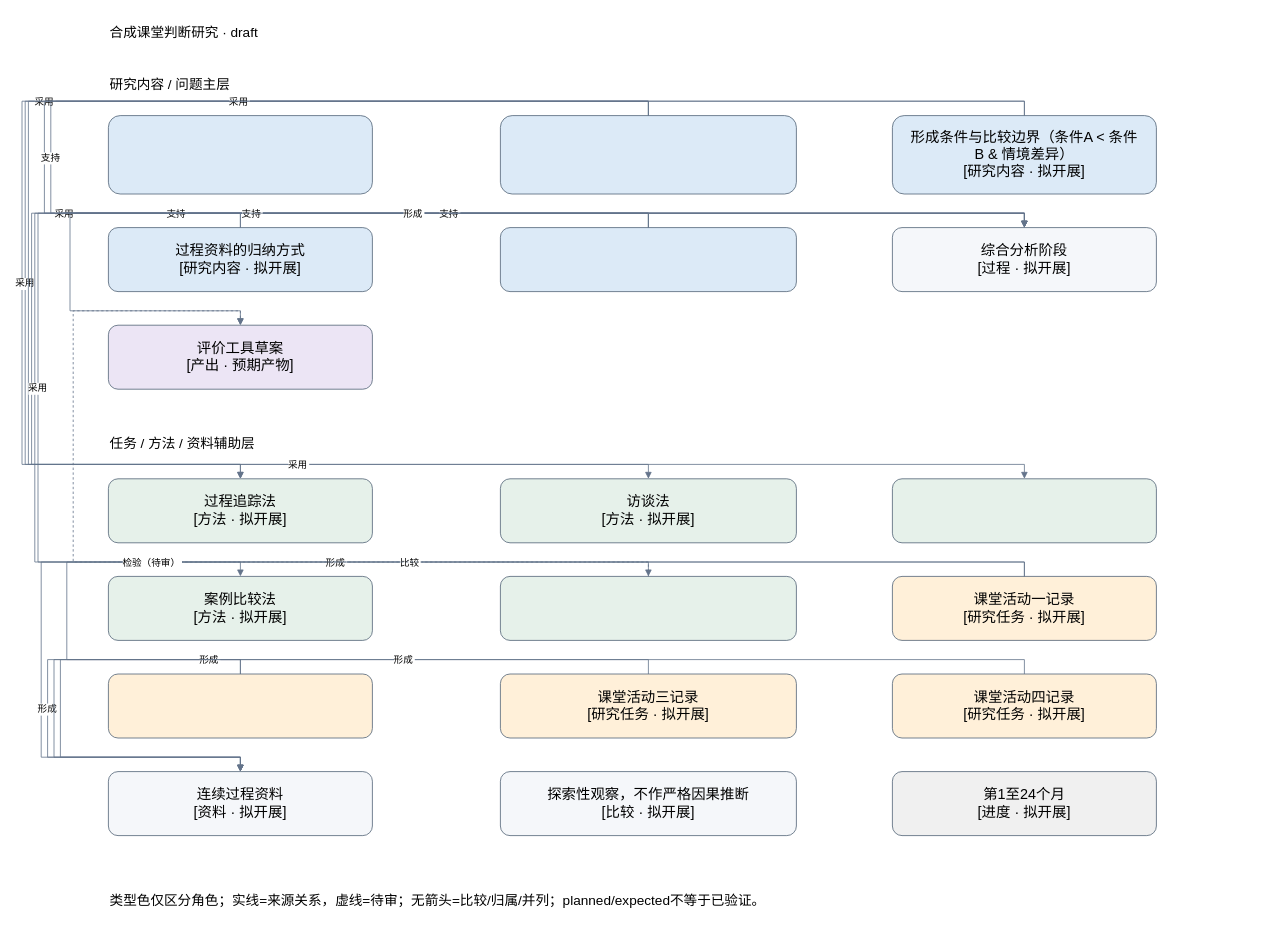
The diagram is 1282 pixels wide and 930 high, and some of its shapes have lost their labels. The shapes that lost their labels are listed below. From the top down, each one's centre as x and y in pixels, then its label:
At [240,154]: "不同资料来源如何支持对课堂判断过 程的解释 [科学问题 · 拟开展]".
At [648,154]: "还原学生在不同学习条件下形成课堂判断 的连续过程并识别关键证据转换环节 [研究内容 · 拟开展]".
At [648,259]: "评价规则的试行条件 [研究内容 · 拟开展]".
At [1024,510]: "主题分析法 [方法 · 拟开展]".
At [648,608]: "描述统计法 [方法 · 拟开展]".
At [240,705]: "课堂活动二记录 [研究任务 · 拟开展]".
